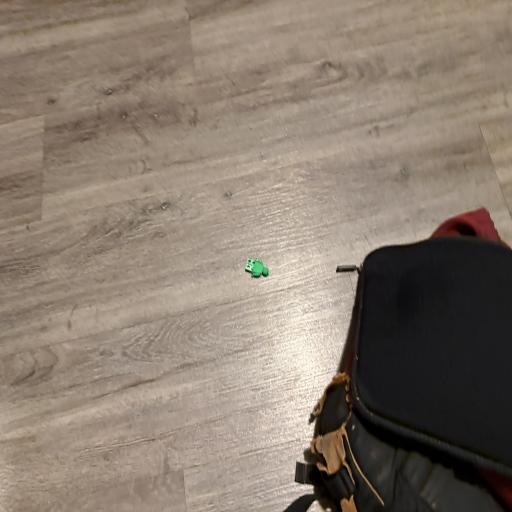Minifig: (262, 272, 270, 368), (246, 259, 269, 277)
